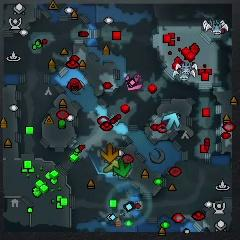x1: (125, 74, 143, 92)
x2: (103, 158, 121, 175)
x3: (163, 112, 181, 130)
x4: (114, 158, 132, 178)
x5: (101, 144, 119, 162)
